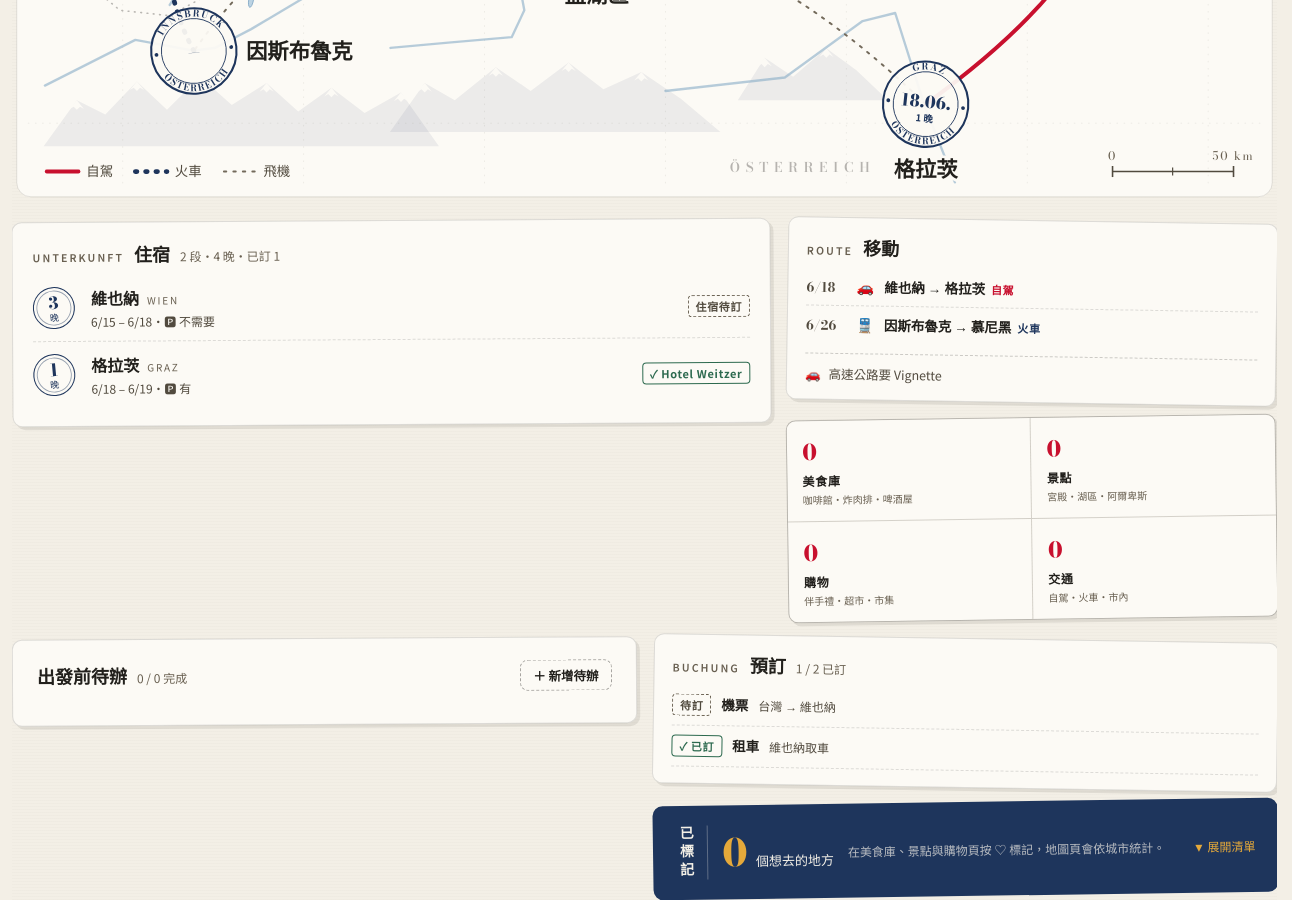
Test: Home 新增出發前待辦 › 按「新增待辦」出現輸入列，送出後收起並提示等待重建
The width and height of the screenshot is (1292, 900).
(page scrolled)
Click the button "＋ 新增待辦". click: (566,675)
box: [520,659,612,690]
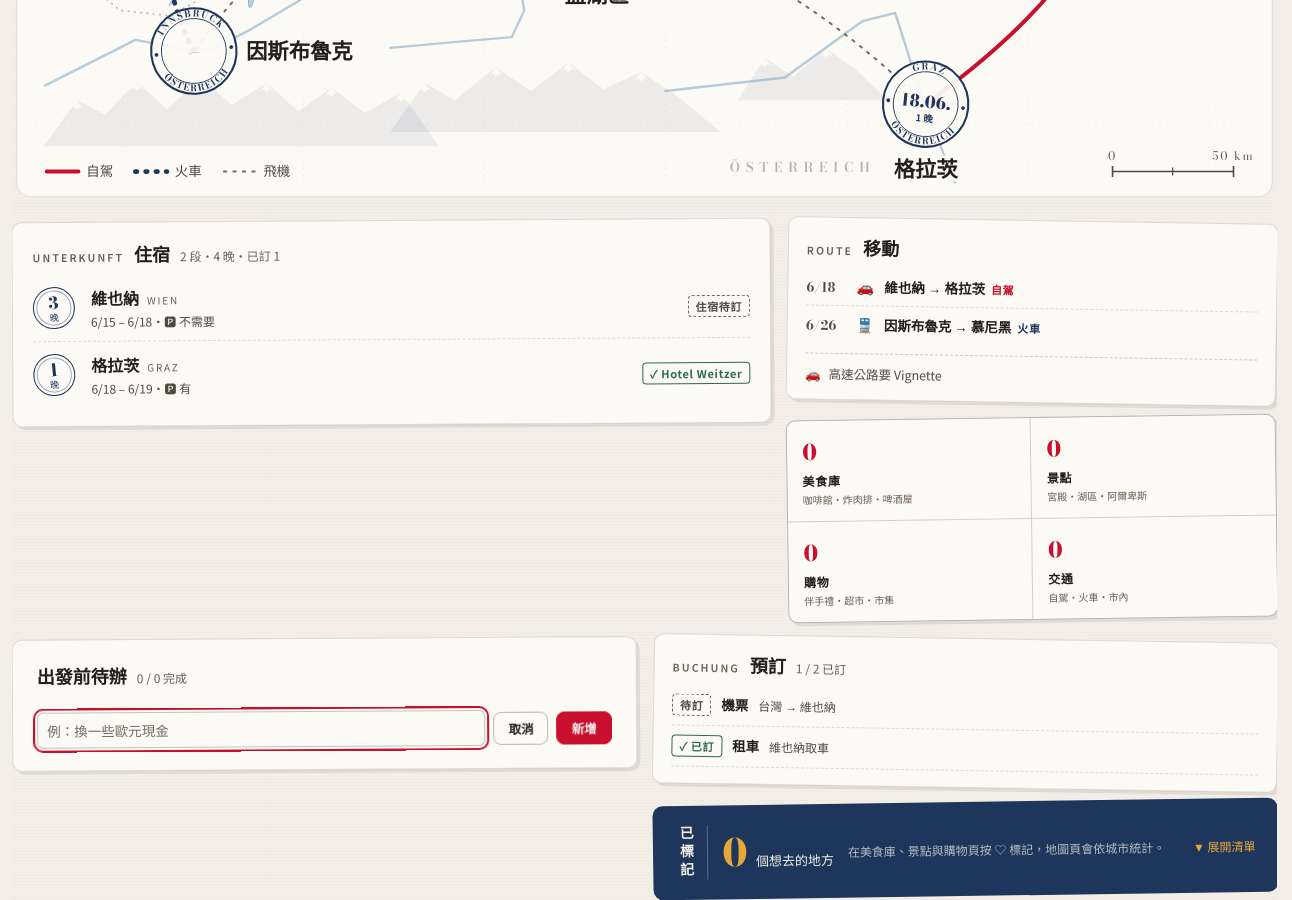
Type " 換歐元現金 " into the field named "待辦內容". click: (261,729)
box: [37,710,486,748]
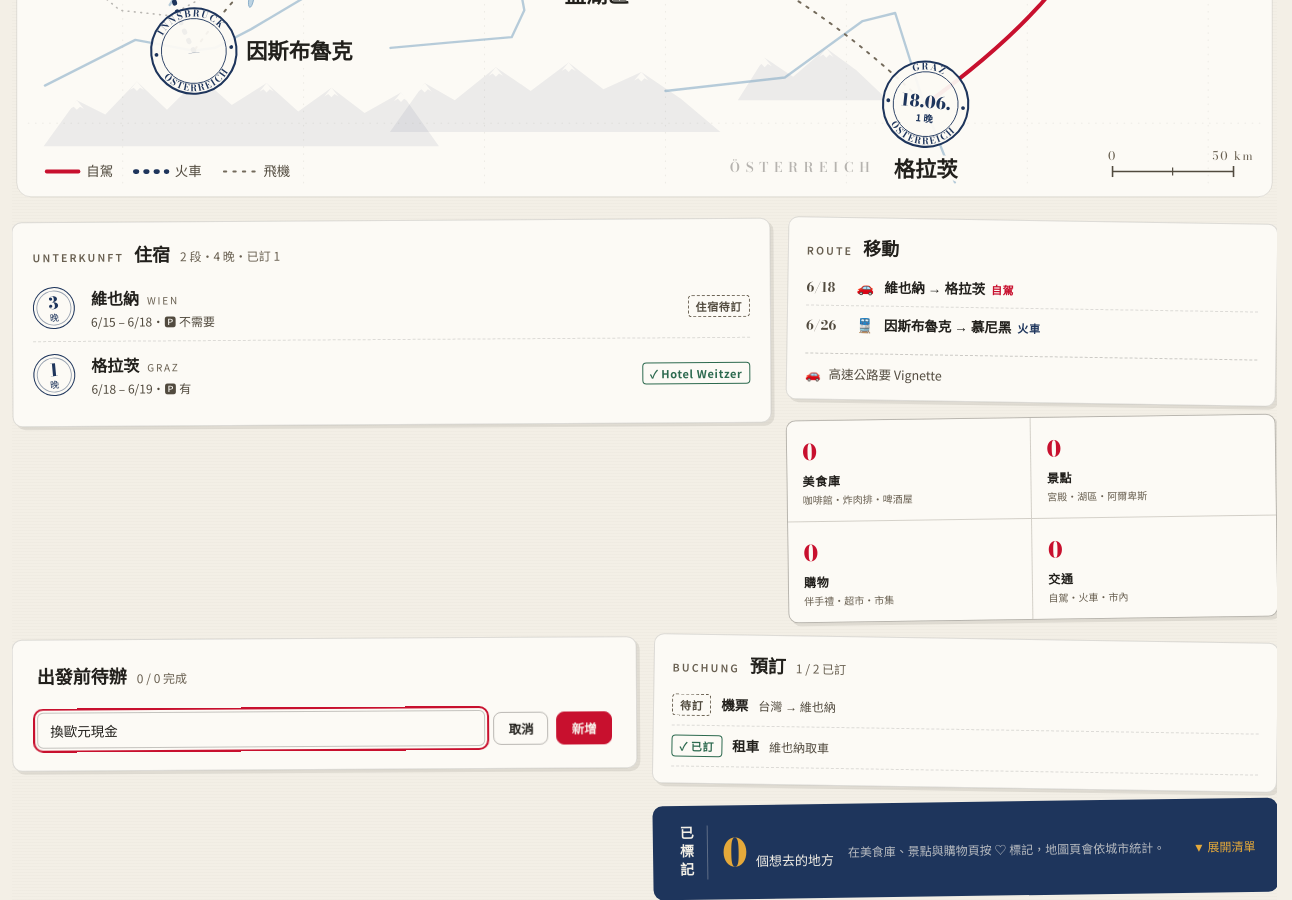
Submit the form named "新增待辦", box [37,709,612,748]
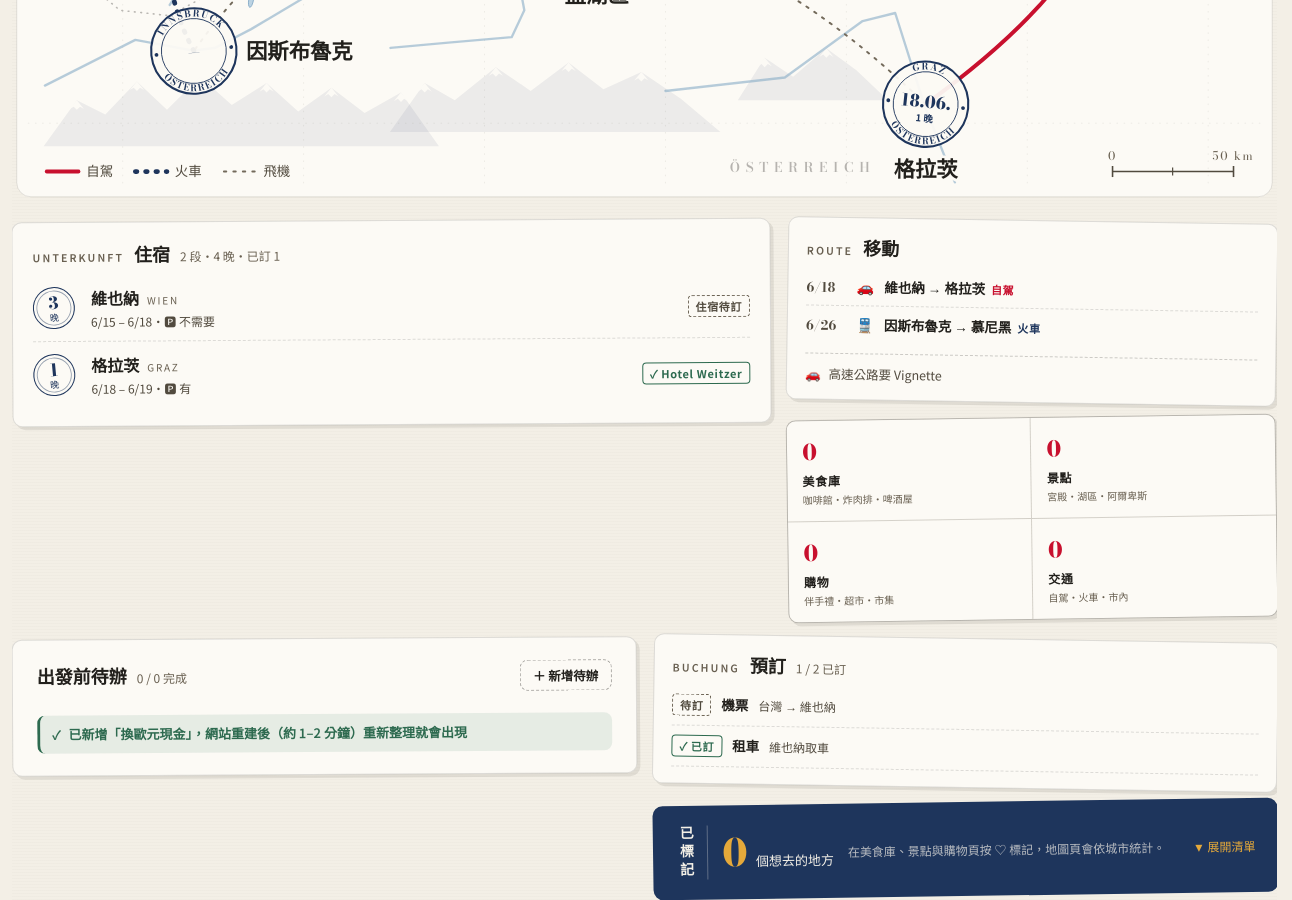
Expected: the message shows "已新增「換歐元現金」", [37,712,612,753]
